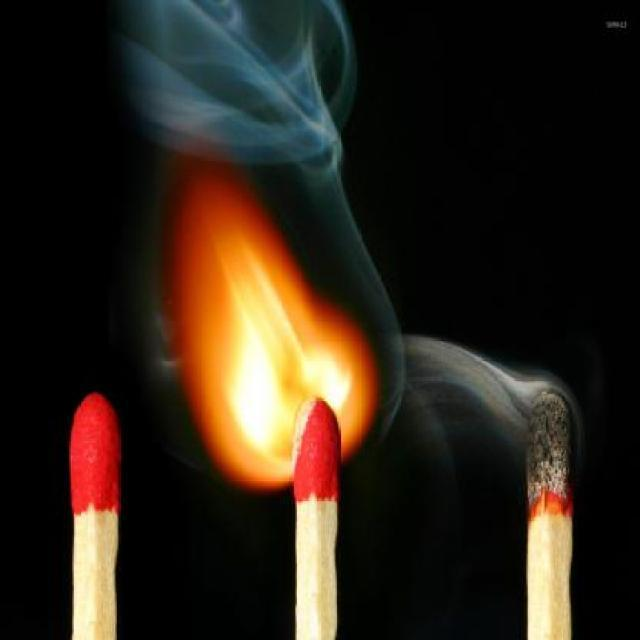Fire: (155, 153, 375, 503)
Smoke: (110, 0, 410, 447), (373, 312, 580, 517)
